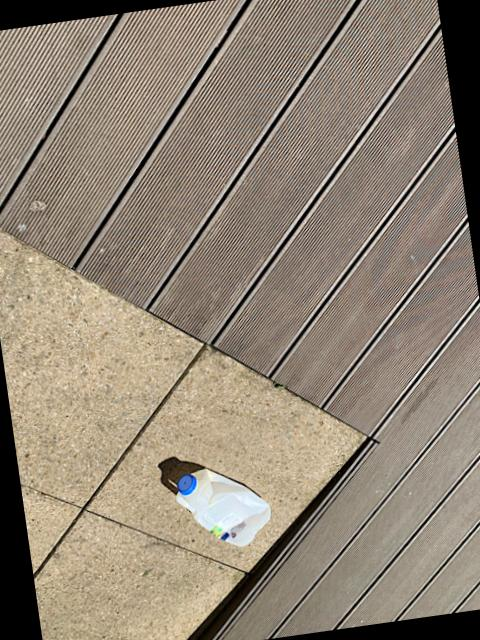plastic: (175, 471, 269, 547)
